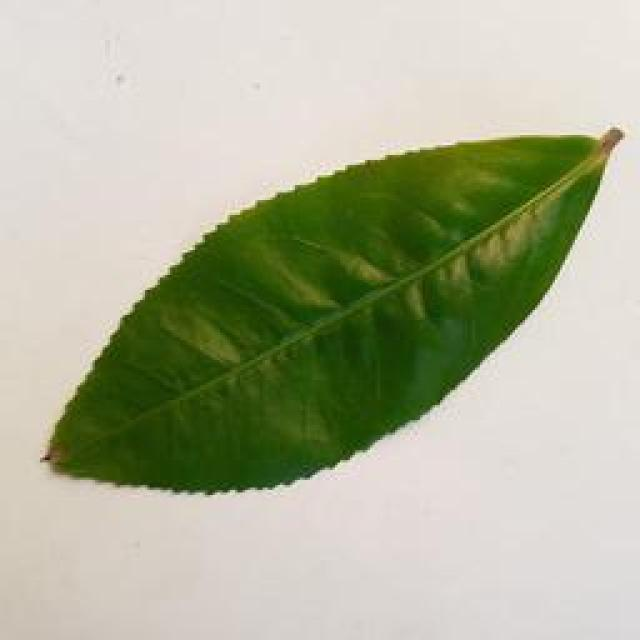Healthy: (33, 124, 615, 492)
